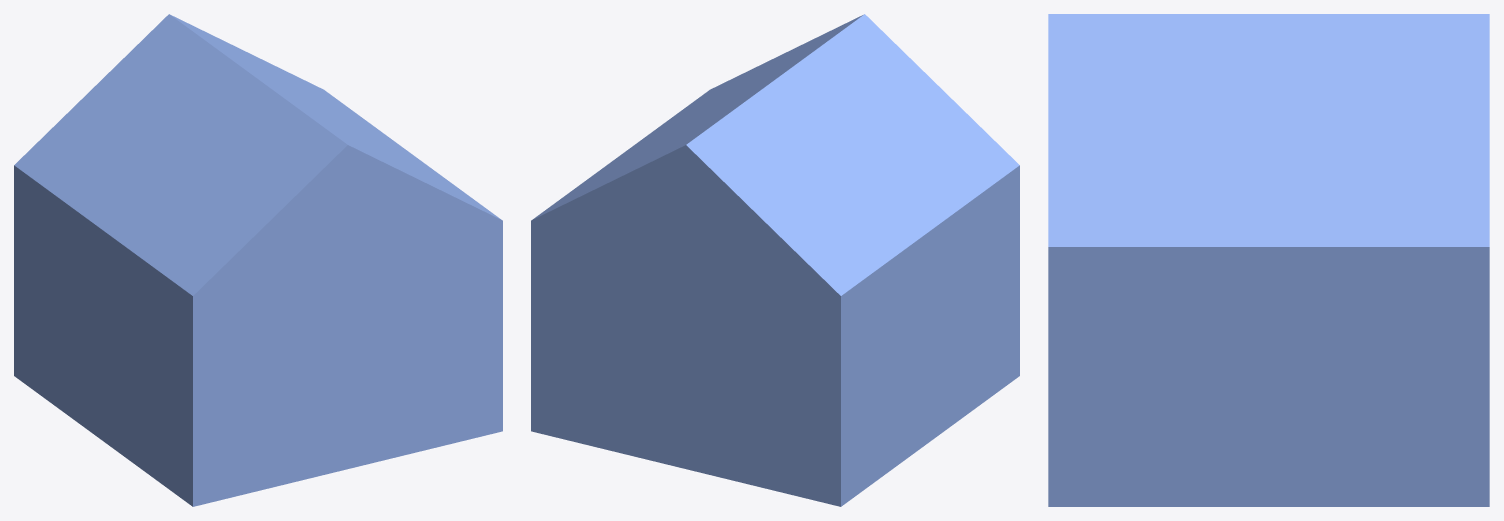
Rendered from Building_Prefab_01.gltf.
3 renders of one model, left to right at view 1: azimuth 30°, elevation 25°; view 2: azimuth 150°, elevation 25°; view 3: azimuth 270°, elevation 25°, orthographic. The views are drawn at different scales.
Parts seen in each view (by area): view 1: Building_Prefab_01; view 2: Building_Prefab_01; view 3: Building_Prefab_01.
Part boxes in pixels (x1,y1,x2,y2): Building_Prefab_01: [14, 14, 502, 506]; Building_Prefab_01: [531, 14, 1019, 506]; Building_Prefab_01: [1048, 14, 1489, 506].
Bounding box in the file's own units: 0.1 × 0.1 × 0.1.
